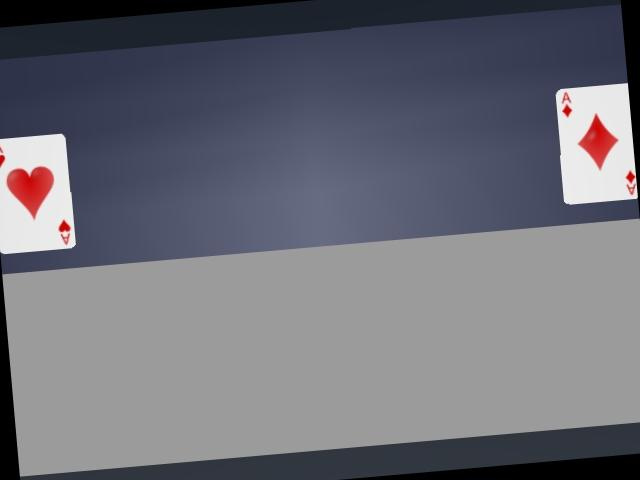diamond: (556, 84, 637, 204)
heart: (0, 134, 75, 253)
